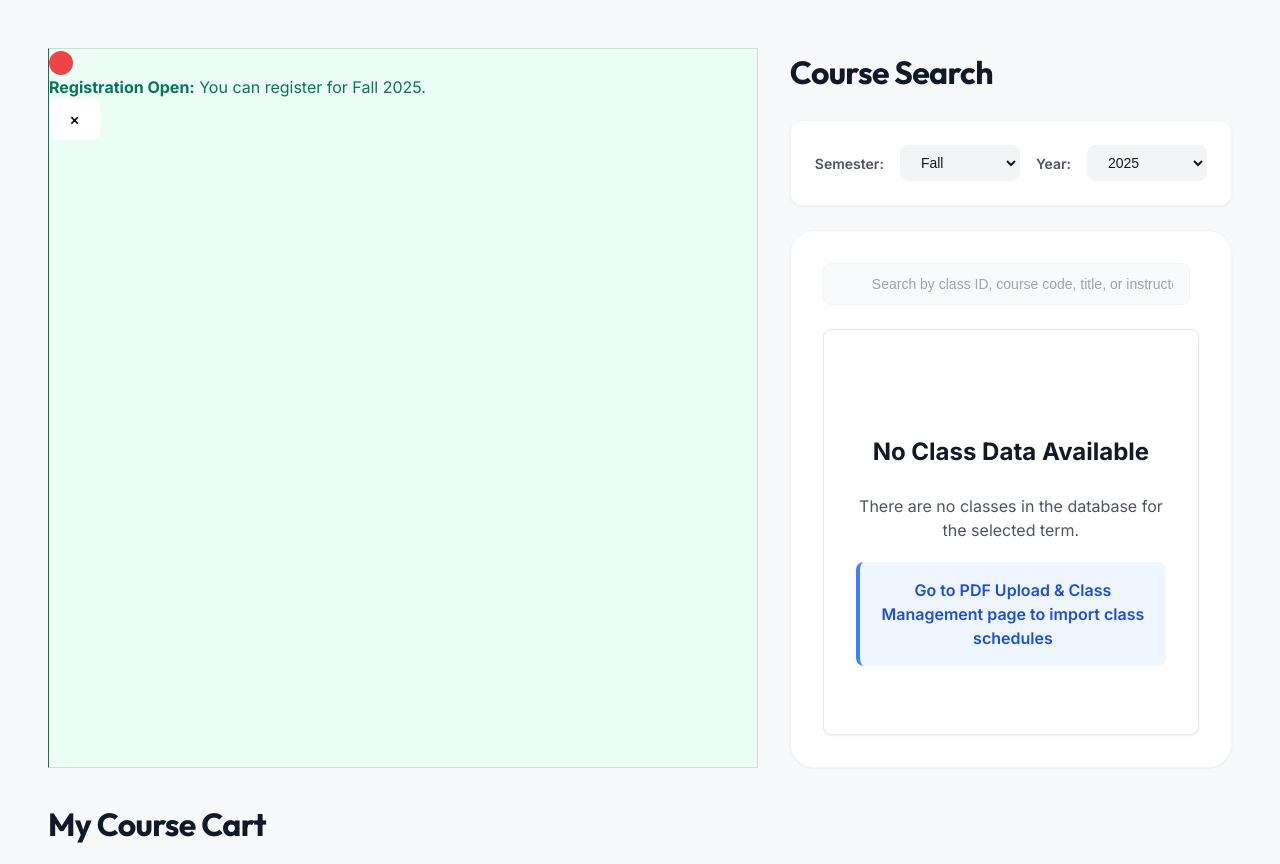
it: CourseRegistration › server error on add to cart
Type "CSE101" into the field with placeholder "Search by class ID, course code, title, or instructor...".
click(1006, 284); type("CSE101")  # box [823,263,1190,305]
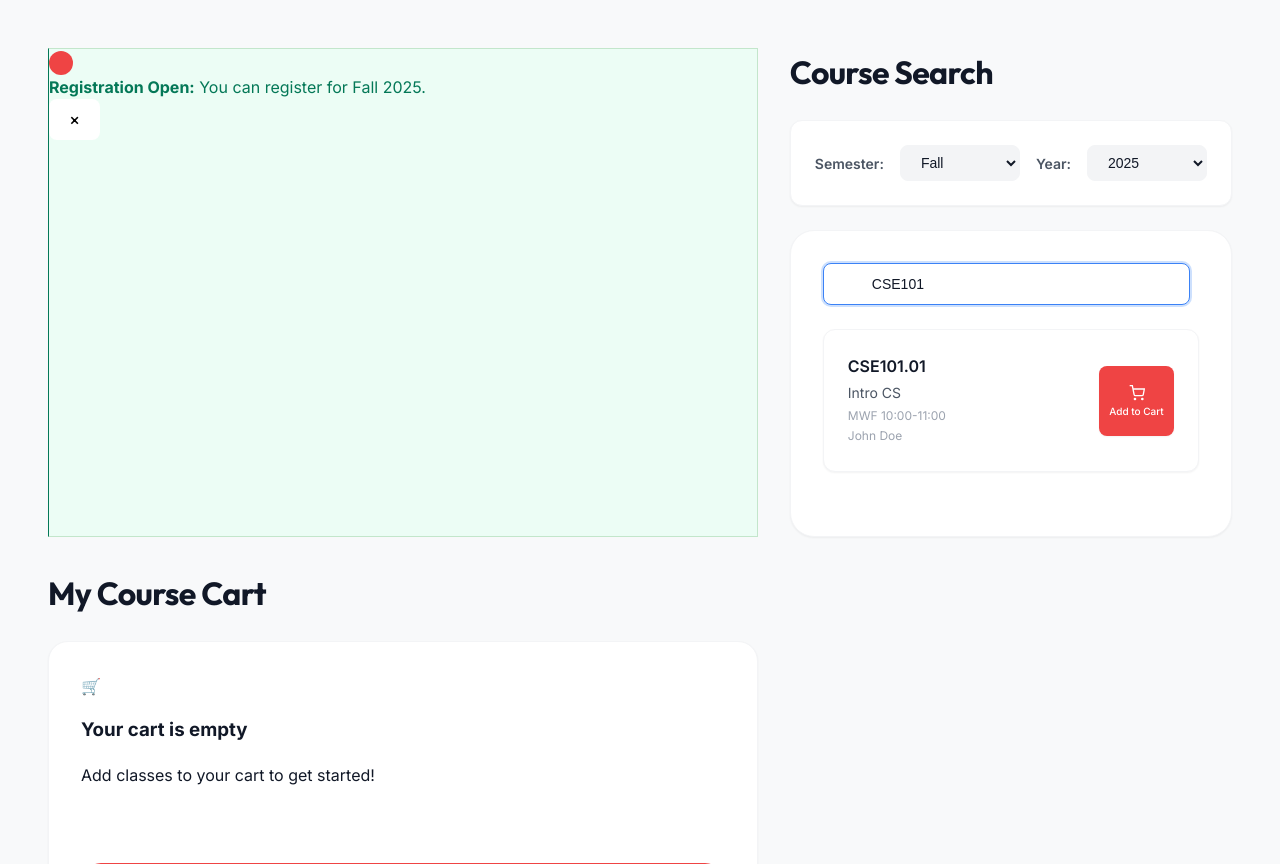
Click the button "Add to Cart".
click(1136, 400)  # box [1099,366,1174,436]
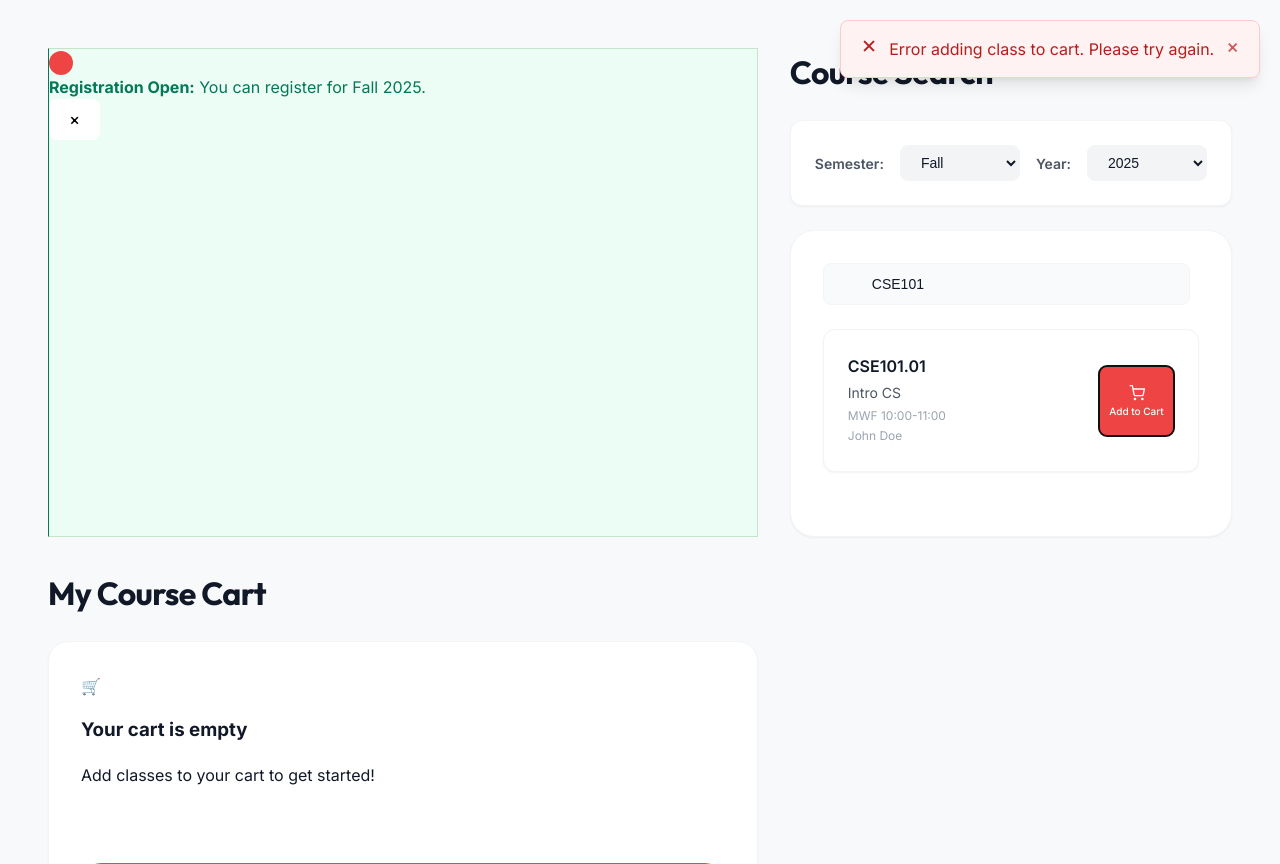
expect the text "Error adding class to cart. Please try again." is shown: met, box [889,37,1214,61]
